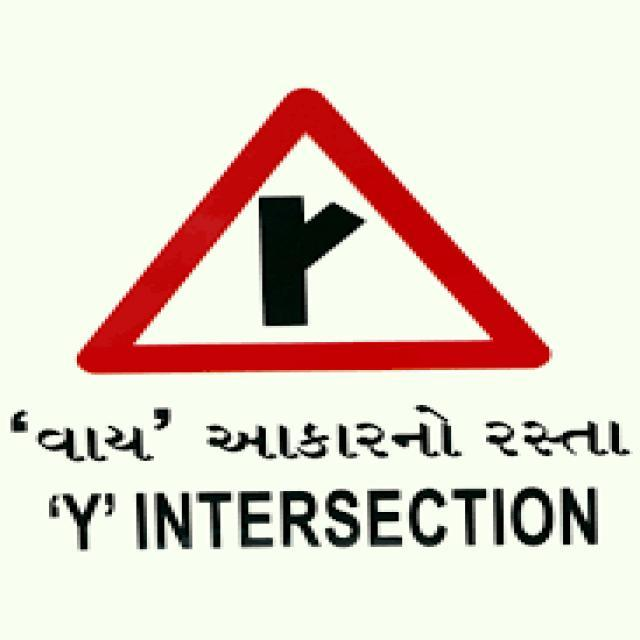y intersection: (70, 89, 554, 370)
